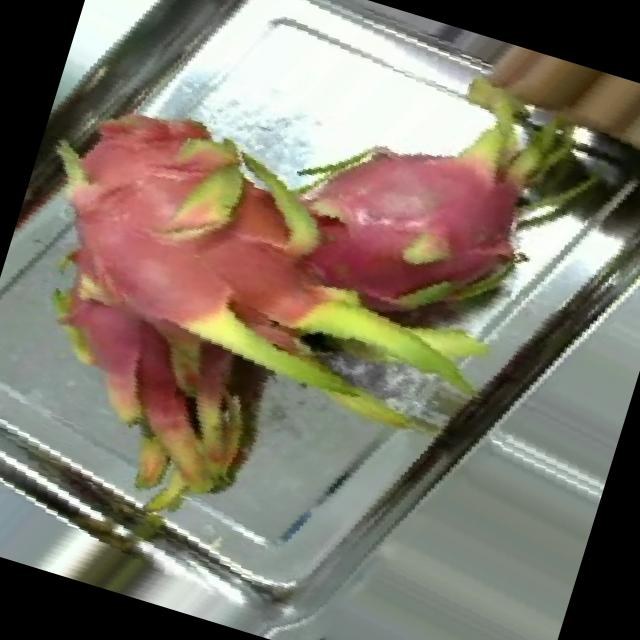Fruit: (6, 114, 100, 267)
